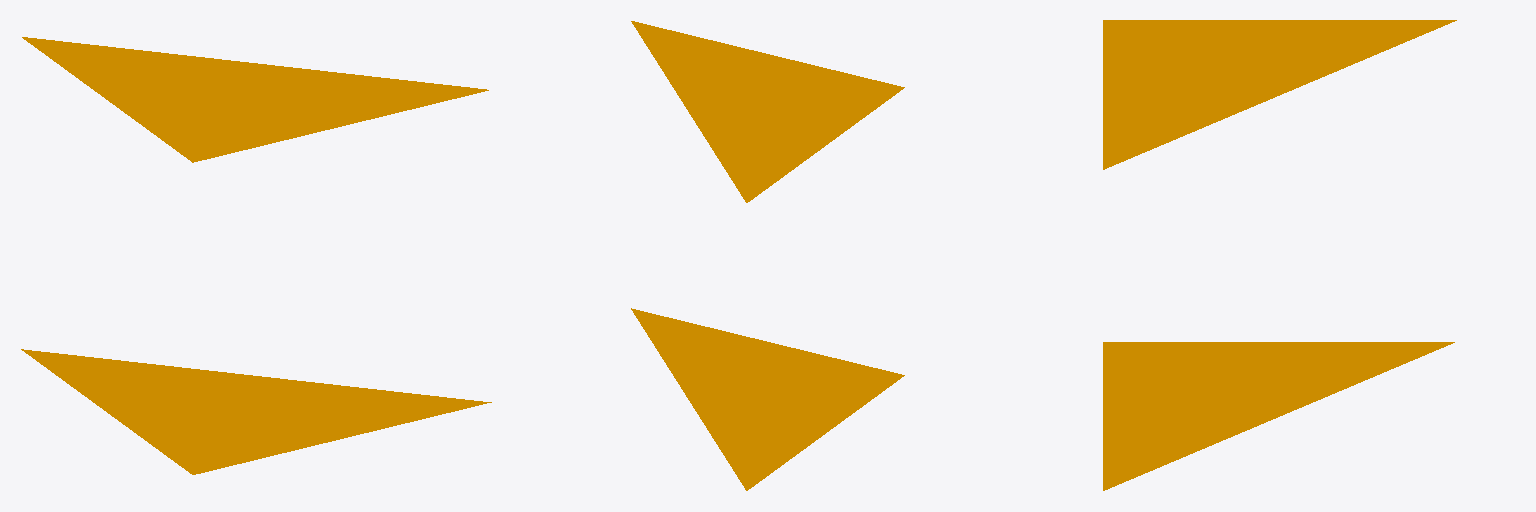
The robot description file, URDF, robot "missing_texture_fixture":
<?xml version="1.0"?>
<robot name="missing_texture_fixture">
  <link name="base_link">
    <visual>
      <geometry>
        <mesh filename="meshes/base.stl"/>
      </geometry>
      <material name="body_material">
        <texture filename="textures/body.png"/>
      </material>
    </visual>
  </link>
</robot>

--- Facts derived from the render (not from the file) ---
Views: 3 orthographic renders of the robot side by side, from view 1: azimuth 30°, elevation 25°; view 2: azimuth 150°, elevation 25°; view 3: azimuth 270°, elevation 25°.
Robot: missing_texture_fixture — 1 links, 0 joints (none); root link base_link; default pose: every joint at zero.
Links seen in each view (by area): view 1: base_link; view 2: base_link; view 3: base_link.
Link boxes in pixels (x1=…): base_link: x1=21, y1=37, x2=491, y2=474; base_link: x1=631, y1=21, x2=904, y2=490; base_link: x1=1103, y1=20, x2=1456, y2=490.
Bounding box of the posed robot: 0.05 × 0.05 × 0.05 m (x, y, z).
1 mesh visuals loaded from 1 distinct referenced files (1 ASCII STL).
